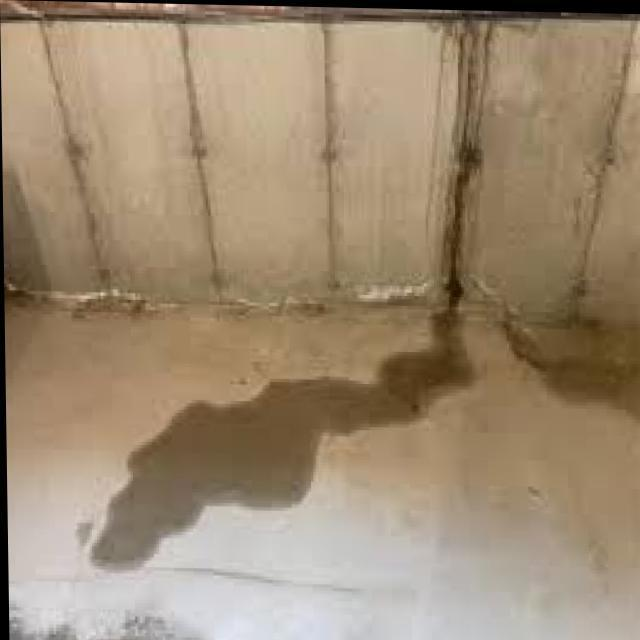water accumulation: (70, 295, 485, 577), (434, 10, 488, 293), (497, 300, 629, 413)
